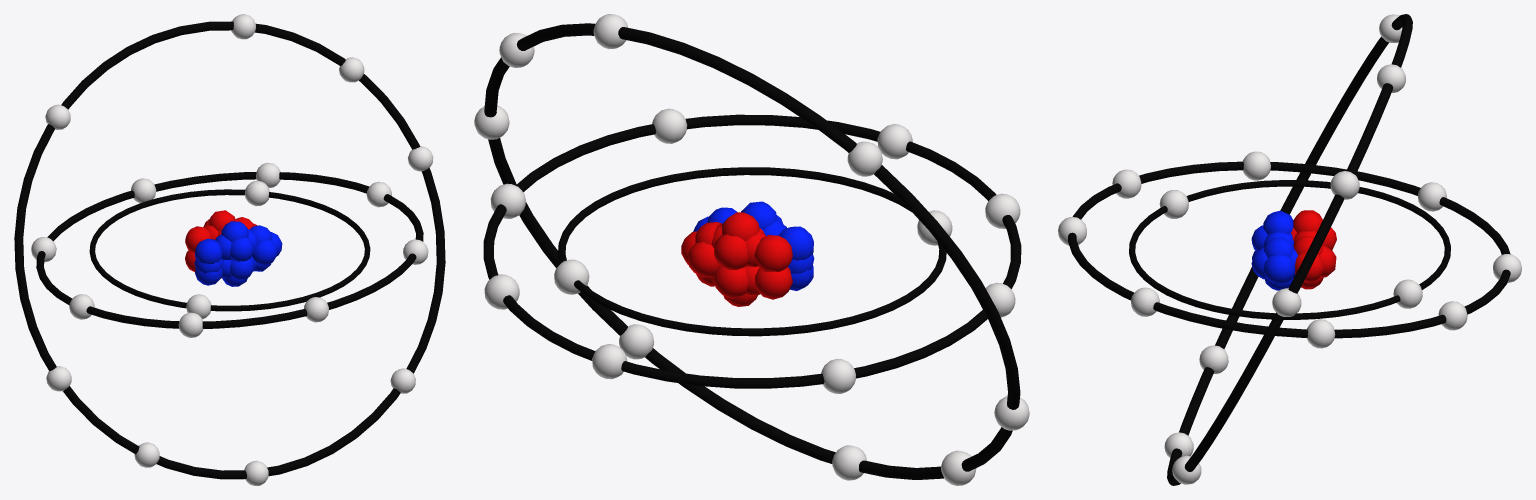
The model's file is 18 Argon.fbx.
The picture shows the model from 3 angles, left to right: view 1: azimuth 30°, elevation 25°; view 2: azimuth 150°, elevation 25°; view 3: azimuth 270°, elevation 25°; orthographic projection. The views are drawn at different scales.
Parts seen in each view (by area): view 1: Orbita.003, Orbita.002, Nucleo.003, Orbita.001, Electron.003, Electron.001, Electron.005, Electron.016, Electron.014, Electron.013, Electron.012, Electron.004 (+8 smaller); view 2: Orbita.003, Orbita.002, Nucleo.003, Orbita.001, Electron.012, Electron.007, Electron.008, Electron.013, Electron.009, Electron.004, Electron.001, Electron.015 (+9 smaller); view 3: Orbita.003, Orbita.002, Nucleo.003, Orbita.001, Electron.006, Electron.010, Electron.014, Electron.001, Electron.016, Electron.008, Electron, Electron.007 (+8 smaller).
Boxes of the visible parts, bbox=[...] form: Orbita.003: bbox=[14, 21, 445, 479]; Orbita.002: bbox=[36, 172, 423, 328]; Nucleo.003: bbox=[185, 210, 282, 286]; Orbita.001: bbox=[89, 189, 370, 311]; Electron.003: bbox=[178, 312, 203, 337]; Electron.001: bbox=[245, 180, 269, 206]; Electron.005: bbox=[46, 366, 71, 391]; Electron.016: bbox=[339, 57, 364, 82]; Electron.014: bbox=[408, 146, 433, 171]; Electron.013: bbox=[390, 368, 415, 393]; Electron.012: bbox=[45, 104, 70, 129]; Electron.004: bbox=[304, 297, 328, 322]; Orbita.003: bbox=[484, 23, 1020, 479]; Orbita.002: bbox=[483, 114, 1021, 388]; Nucleo.003: bbox=[681, 201, 814, 306]; Orbita.001: bbox=[558, 167, 946, 336]; Electron.012: bbox=[847, 141, 882, 176]; Electron.007: bbox=[821, 358, 855, 393]; Electron.008: bbox=[652, 108, 687, 143]; Electron.013: bbox=[619, 324, 654, 359]; Electron.009: bbox=[592, 344, 627, 379]; Electron.004: bbox=[877, 124, 912, 159]; Electron.001: bbox=[554, 259, 589, 294]; Electron.015: bbox=[832, 445, 866, 480]; Orbita.003: bbox=[1167, 14, 1412, 485]; Orbita.002: bbox=[1068, 161, 1510, 338]; Nucleo.003: bbox=[1251, 210, 1336, 290]; Orbita.001: bbox=[1129, 180, 1450, 319]; Electron.006: bbox=[1242, 151, 1270, 180]; Electron.010: bbox=[1306, 319, 1335, 348]; Electron.014: bbox=[1272, 288, 1301, 316]; Electron.001: bbox=[1393, 279, 1422, 308]; Electron.016: bbox=[1330, 171, 1359, 199]; Electron.008: bbox=[1131, 287, 1159, 316]; Electron: bbox=[1159, 190, 1188, 218]; Electron.007: bbox=[1418, 182, 1446, 211].
Bounding box in the file's own units: 10.7 × 12.16 × 11.16.
